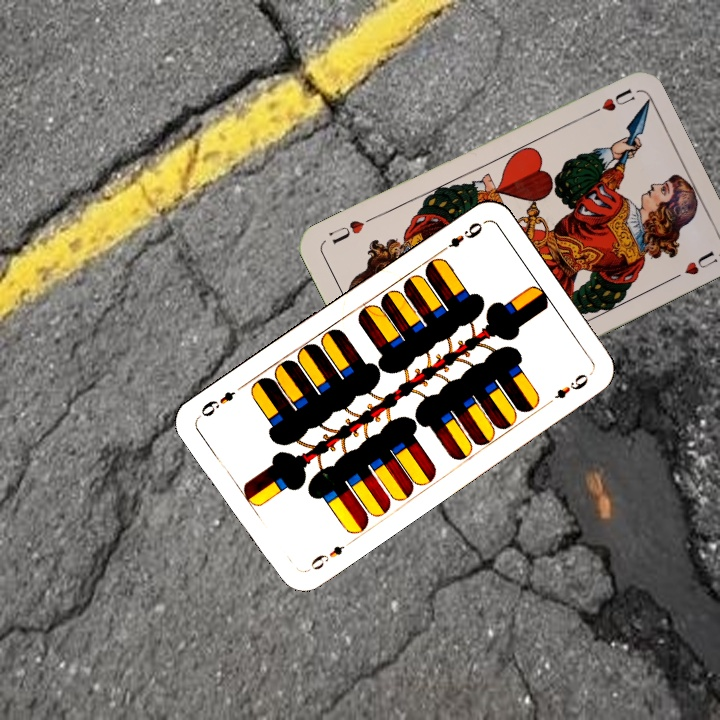E9: (302, 536, 355, 575), (435, 218, 485, 256)
HU: (582, 84, 638, 120)
